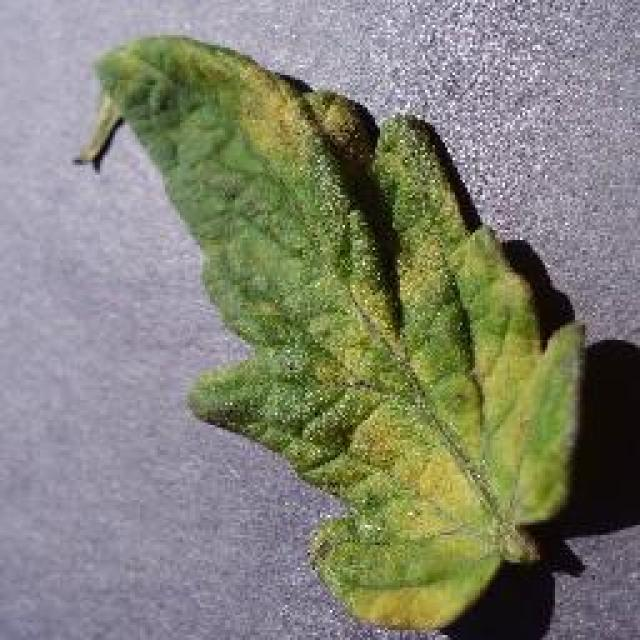Tomato mold leaf: (84, 38, 584, 628)
